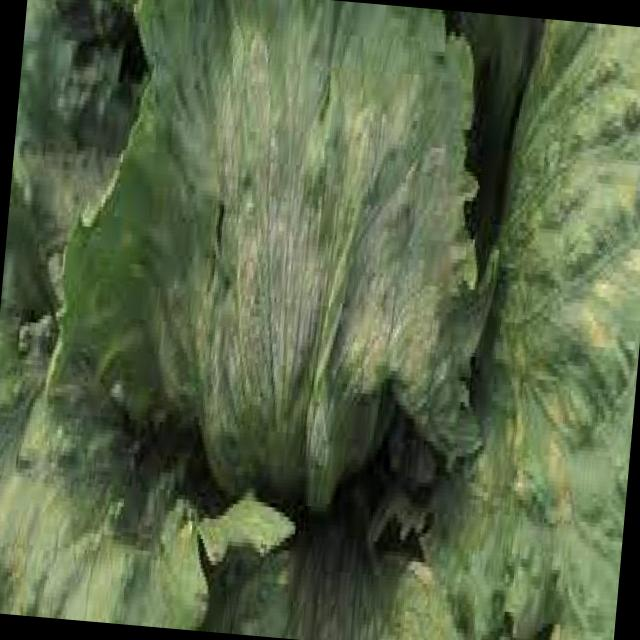Downy_mildew_on_lettuce: (173, 21, 450, 370)
